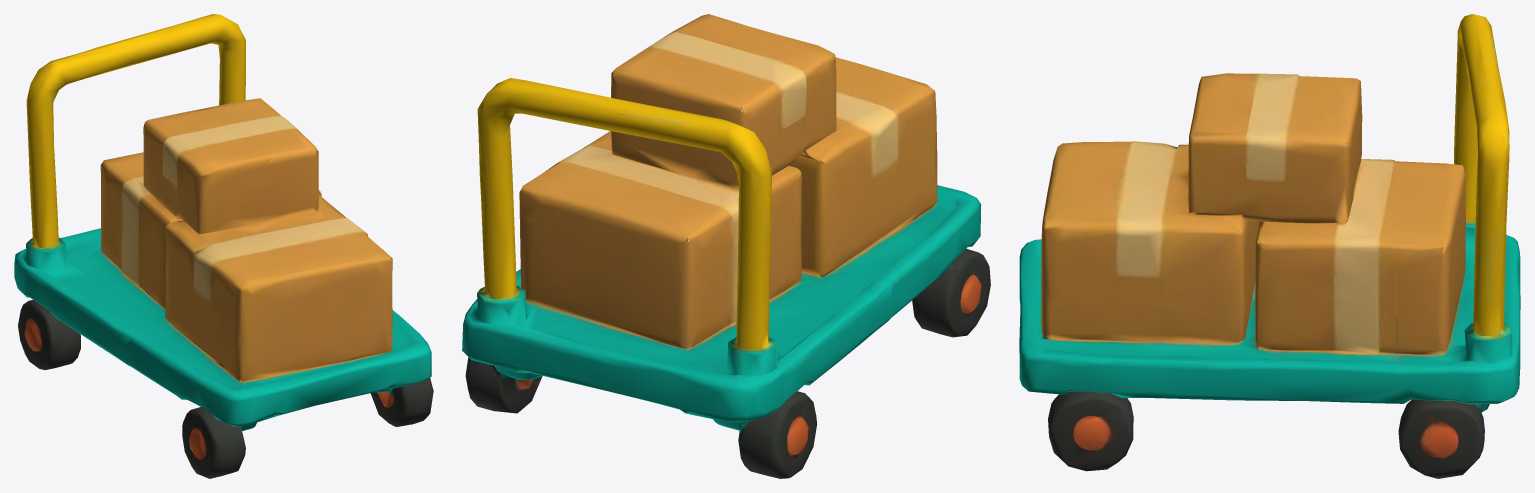
File: factory-box-trolley.glb
3 renders of one model, left to right at view 1: azimuth 30°, elevation 25°; view 2: azimuth 150°, elevation 25°; view 3: azimuth 270°, elevation 25°, orthographic. The views are drawn at different scales.
Visible parts, largest first — view 1: factory-box-trolley; view 2: factory-box-trolley; view 3: factory-box-trolley.
Part boxes in pixels (x1,y1,x2,y2): factory-box-trolley: (14,14,433,478); factory-box-trolley: (462,14,990,478); factory-box-trolley: (1019,14,1520,478).
Size of the model in its own units: 1.13 by 1.21 by 1.6.
Materials: 1 (1 with a texture image).
